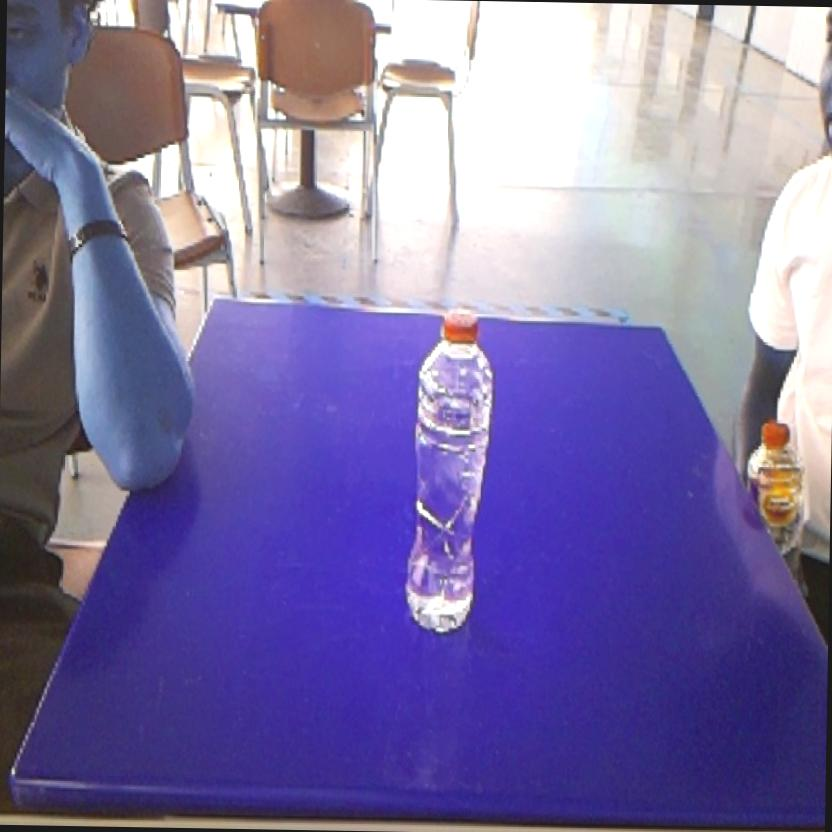no_label: (396, 291, 506, 643)
